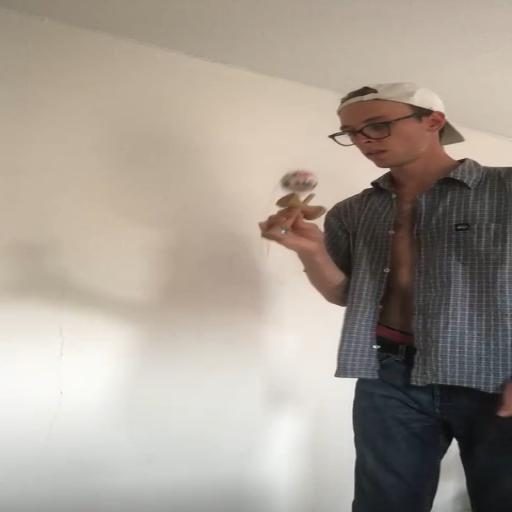kendama_ball: (281, 170, 318, 191)
